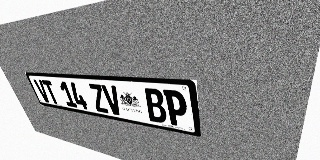1: (57, 81, 78, 108)
4: (68, 82, 89, 110)
B: (143, 88, 168, 124)
P: (163, 89, 189, 128)
T: (41, 80, 60, 105)
V: (101, 84, 124, 116), (33, 79, 52, 103)
Z: (87, 83, 110, 113)
